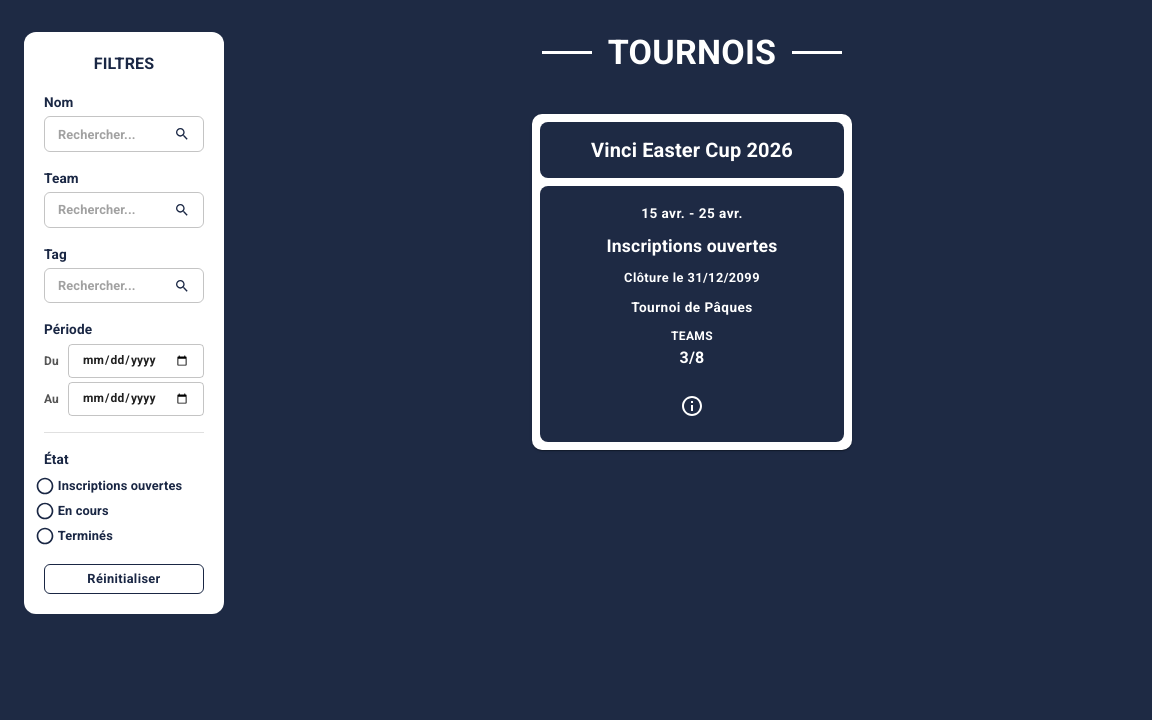
Test: TournamentsPage › navigue vers le détail en cliquant sur le bouton info
expect the heading "Vinci Easter Cup 2026" is shown: met, box [591, 138, 793, 162]
Click the 1st button at (692, 406), box [672, 386, 712, 426]
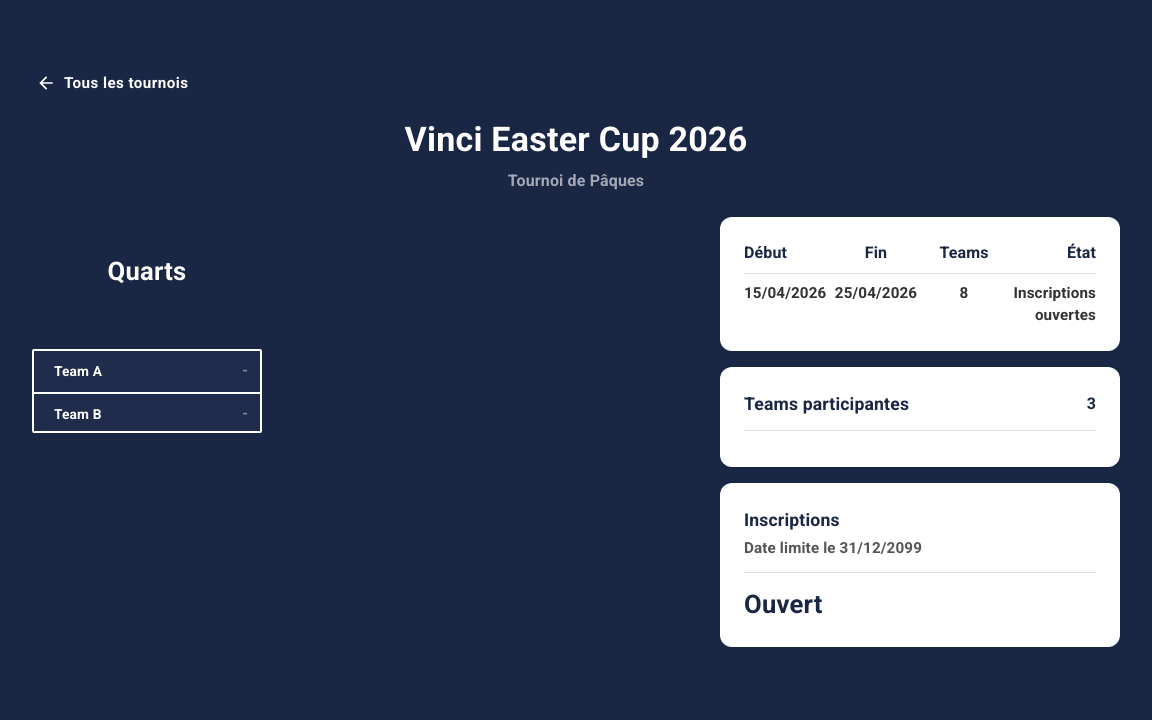
expect the text "Quarts" is shown: met, box [108, 256, 186, 286]
